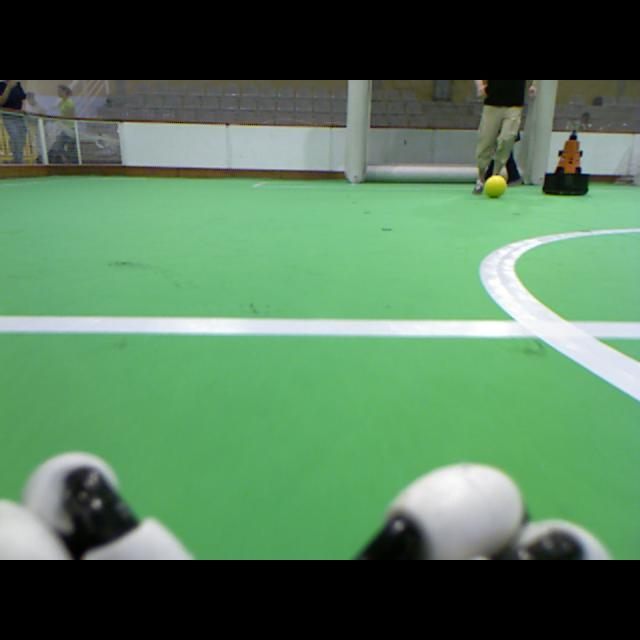ball: (487, 176, 505, 196)
robot: (543, 124, 589, 196)
